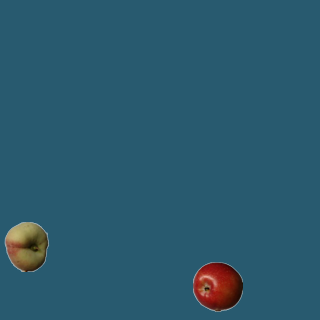Apple Braeburn: (192, 261, 242, 311)
Peach Flat: (1, 221, 51, 271)
